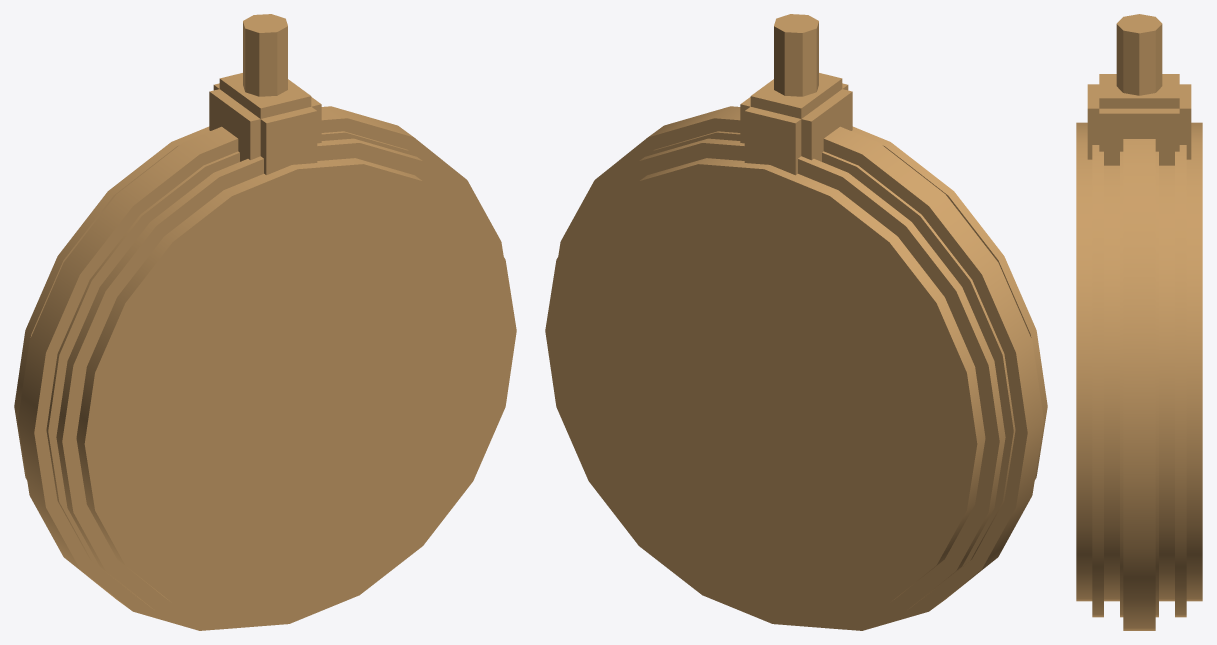
The model's file is coilgun_coil.glb.
The picture shows the model from 3 angles, left to right: view 1: azimuth 30°, elevation 25°; view 2: azimuth 150°, elevation 25°; view 3: azimuth 270°, elevation 25°; orthographic projection. The views are drawn at different scales.
Visible parts, largest first — view 1: coilgun_coil; view 2: coilgun_coil; view 3: coilgun_coil.
Part boxes in pixels (left/top/right/bottom): coilgun_coil: left=14, top=14, right=516, bottom=630; coilgun_coil: left=545, top=14, right=1047, bottom=630; coilgun_coil: left=1076, top=14, right=1202, bottom=630.
Bounding box in the file's own units: 0.236 × 0.2805 × 0.055.
